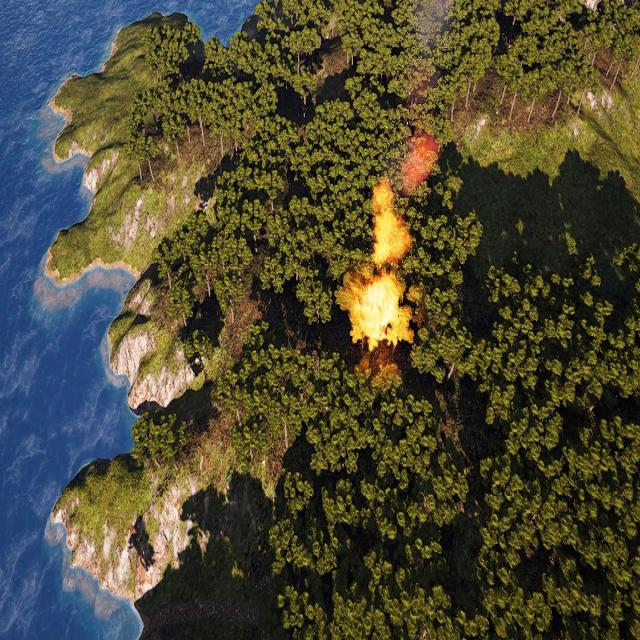fire: (348, 272, 406, 350), (370, 183, 407, 267)
smoke: (398, 0, 462, 195)
